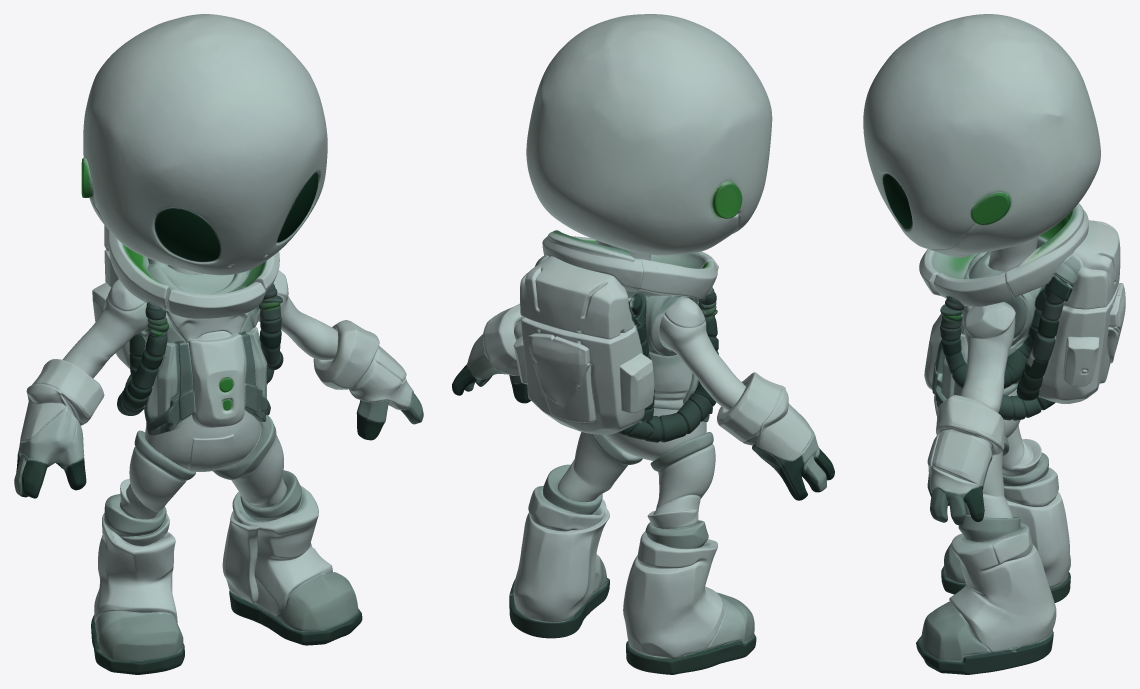
The model's file is A6-paint-suit.glb.
The picture shows the model from 3 angles, left to right: view 1: azimuth 30°, elevation 25°; view 2: azimuth 150°, elevation 25°; view 3: azimuth 270°, elevation 25°; orthographic projection. The views are drawn at different scales.
Bounding box in the file's own units: 1.25 × 1.9 × 0.7709.
Materials: 1 (1 with a texture image).
